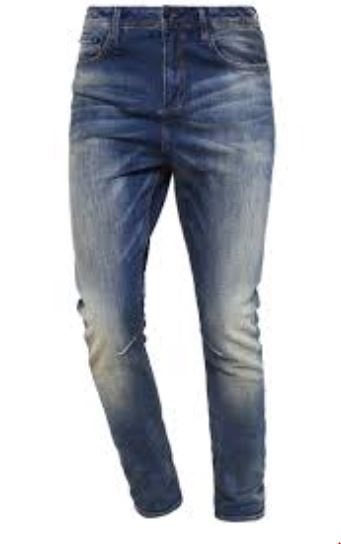Jeans: (61, 4, 281, 525)
